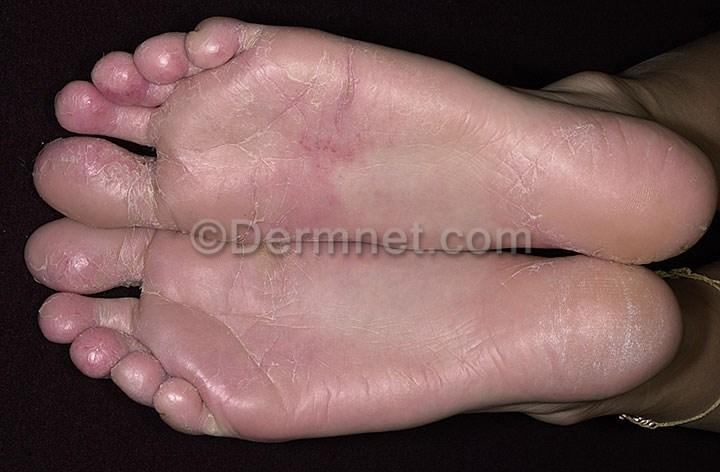Eczema: (66, 48, 198, 141), (194, 320, 337, 402), (286, 87, 395, 191), (53, 139, 177, 199), (29, 246, 147, 290), (81, 337, 134, 369), (48, 299, 97, 332)
